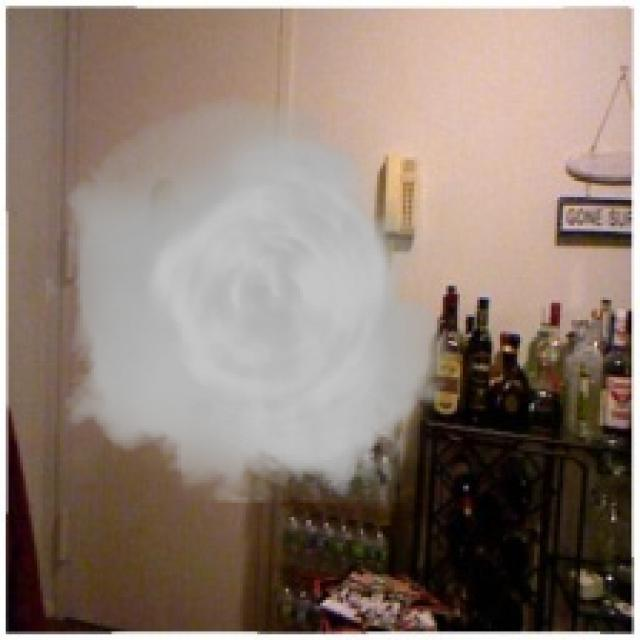smoke: (46, 97, 463, 503)
